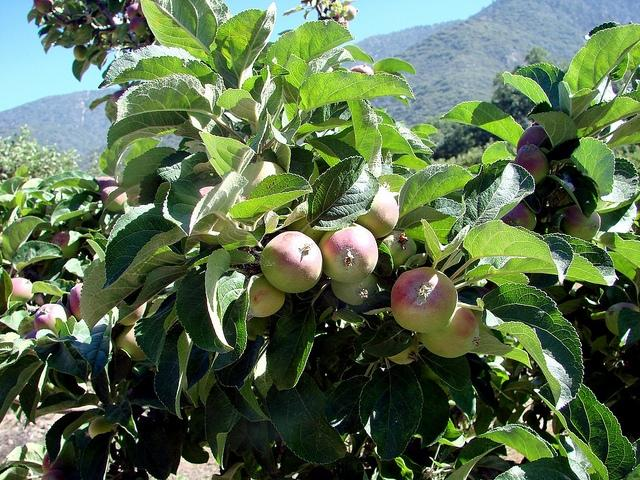peach: (390, 267, 458, 333), (260, 232, 324, 294), (318, 222, 378, 284), (419, 304, 482, 358), (192, 186, 240, 246), (354, 182, 399, 238), (246, 274, 285, 317), (378, 230, 417, 273), (331, 272, 381, 305), (241, 161, 286, 196), (514, 142, 549, 184), (34, 303, 73, 337), (564, 206, 601, 241), (114, 322, 148, 360), (386, 333, 419, 365), (501, 202, 536, 232), (50, 230, 81, 259), (100, 186, 128, 212), (10, 278, 34, 306), (120, 301, 146, 326), (70, 282, 84, 322), (41, 452, 60, 474), (350, 64, 374, 74), (22, 178, 42, 188)
